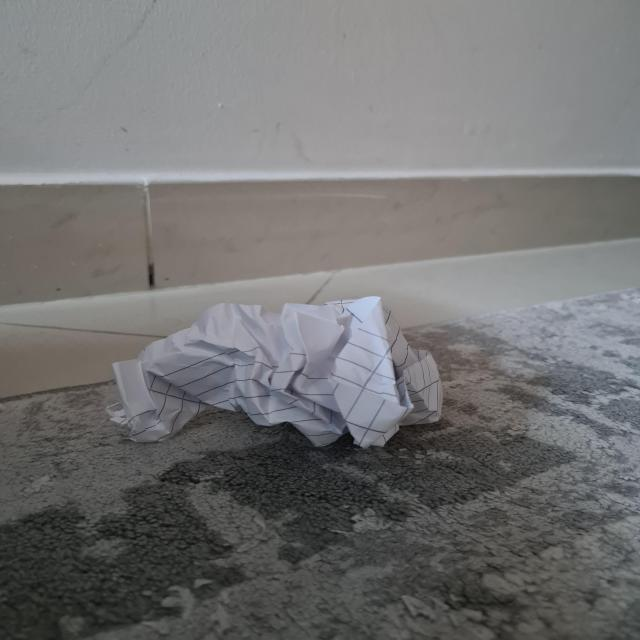Organik: (94, 292, 453, 445)
